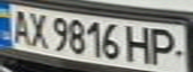1: (84, 19, 106, 57)
6: (100, 20, 127, 61)
8: (66, 17, 87, 56)
9: (45, 14, 72, 53)
A: (6, 7, 33, 46)
H: (124, 22, 157, 65)
P: (145, 25, 187, 68)
X: (24, 9, 51, 50)
